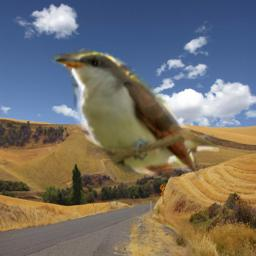Cuckoo: (49, 40, 219, 180)
